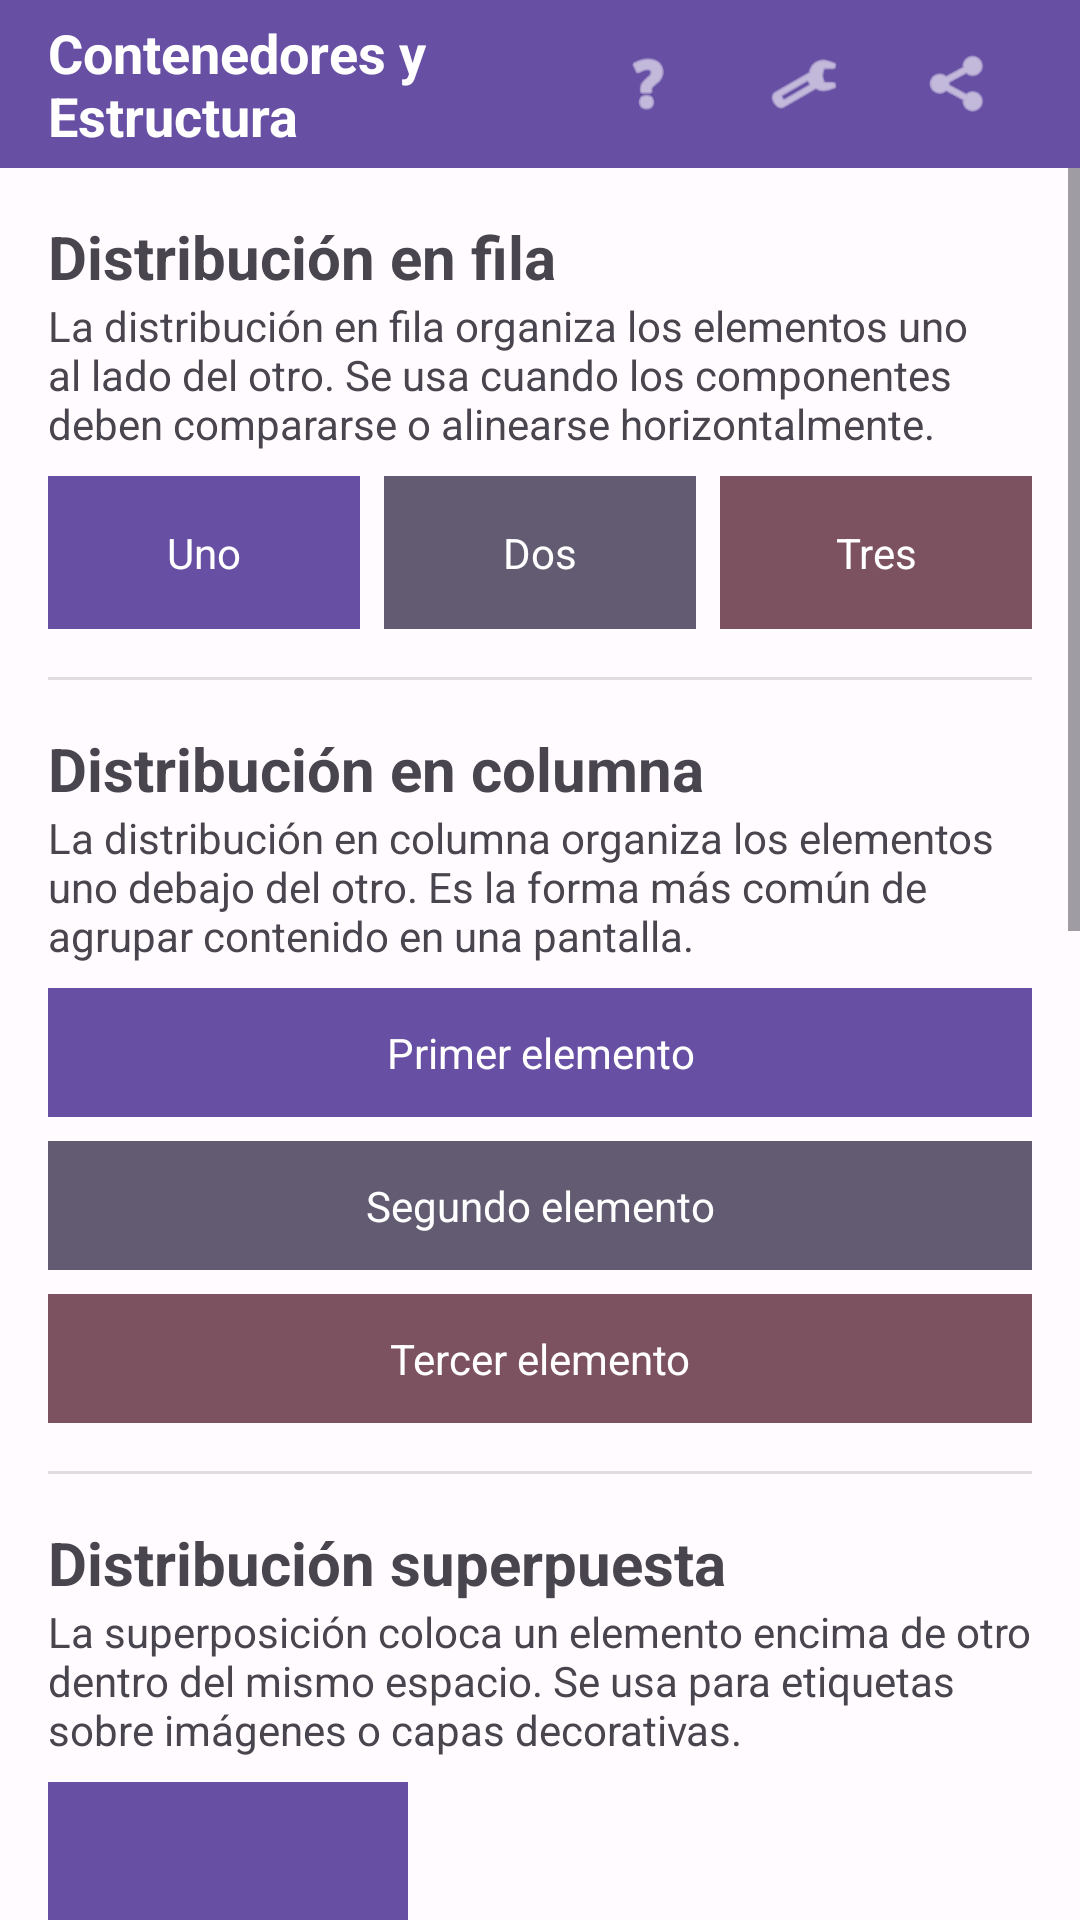

Locate icon controls on the screen. Image size 1080px x 1920px, boxes as [left=x1, top=y1, right=x2, bottom=y2].
Ajustes: [left=772, top=59, right=836, bottom=109]
Ayuda: [left=632, top=58, right=664, bottom=110]
Compartir: [left=929, top=55, right=983, bottom=112]
